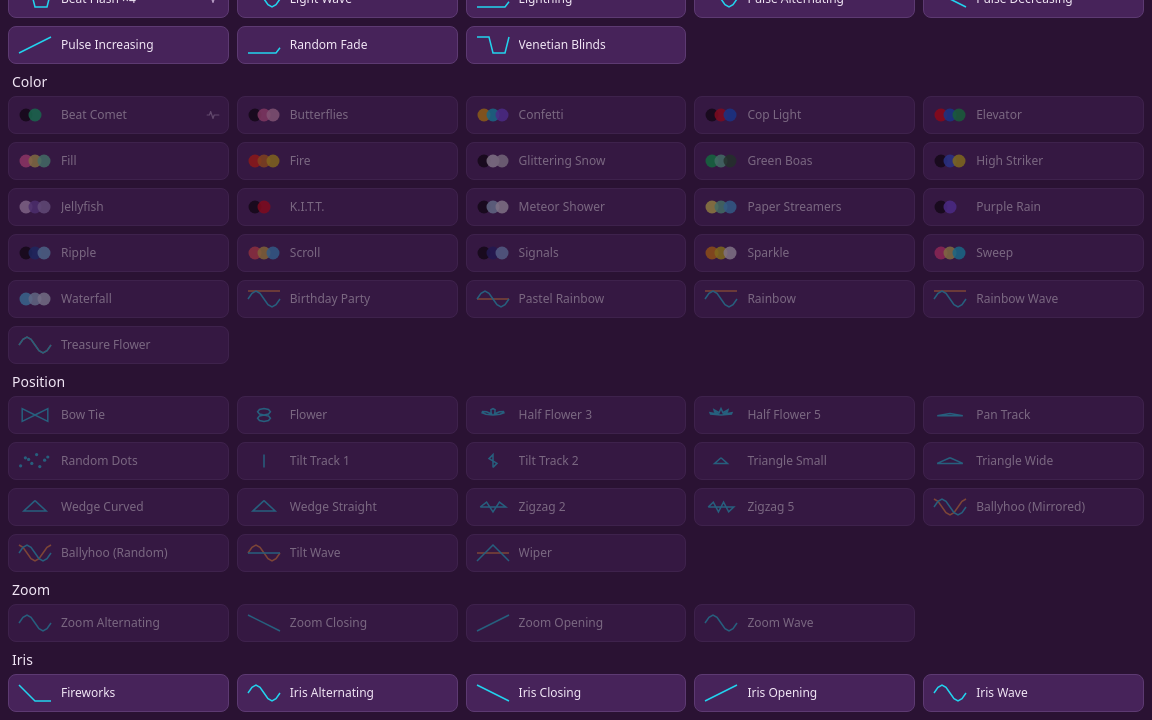
it: effects chooser › adds an Iris template on tile click for an iris fixture
This screenshot has width=1152, height=720.
(page scrolled)
Click the button "Iris Wave": (1034, 693) [923,674,1144,712]
(page scrolled)
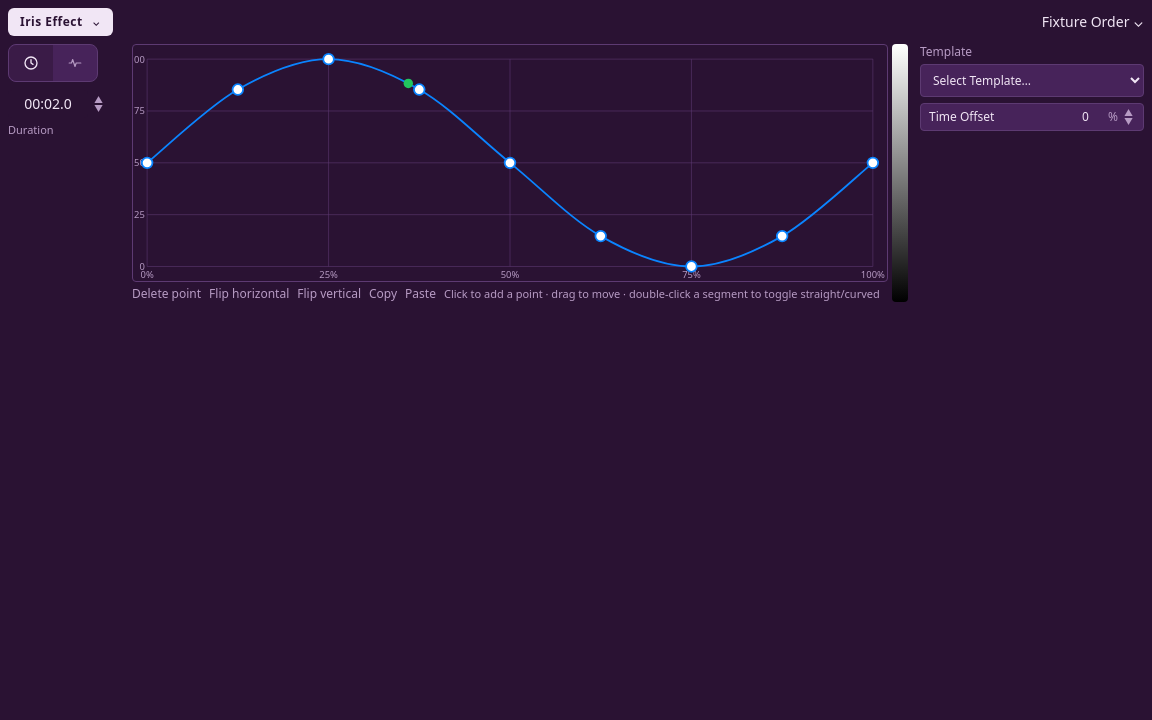
Check: the element with test id "effect-editor" is shown, box [0,0,1151,310]
